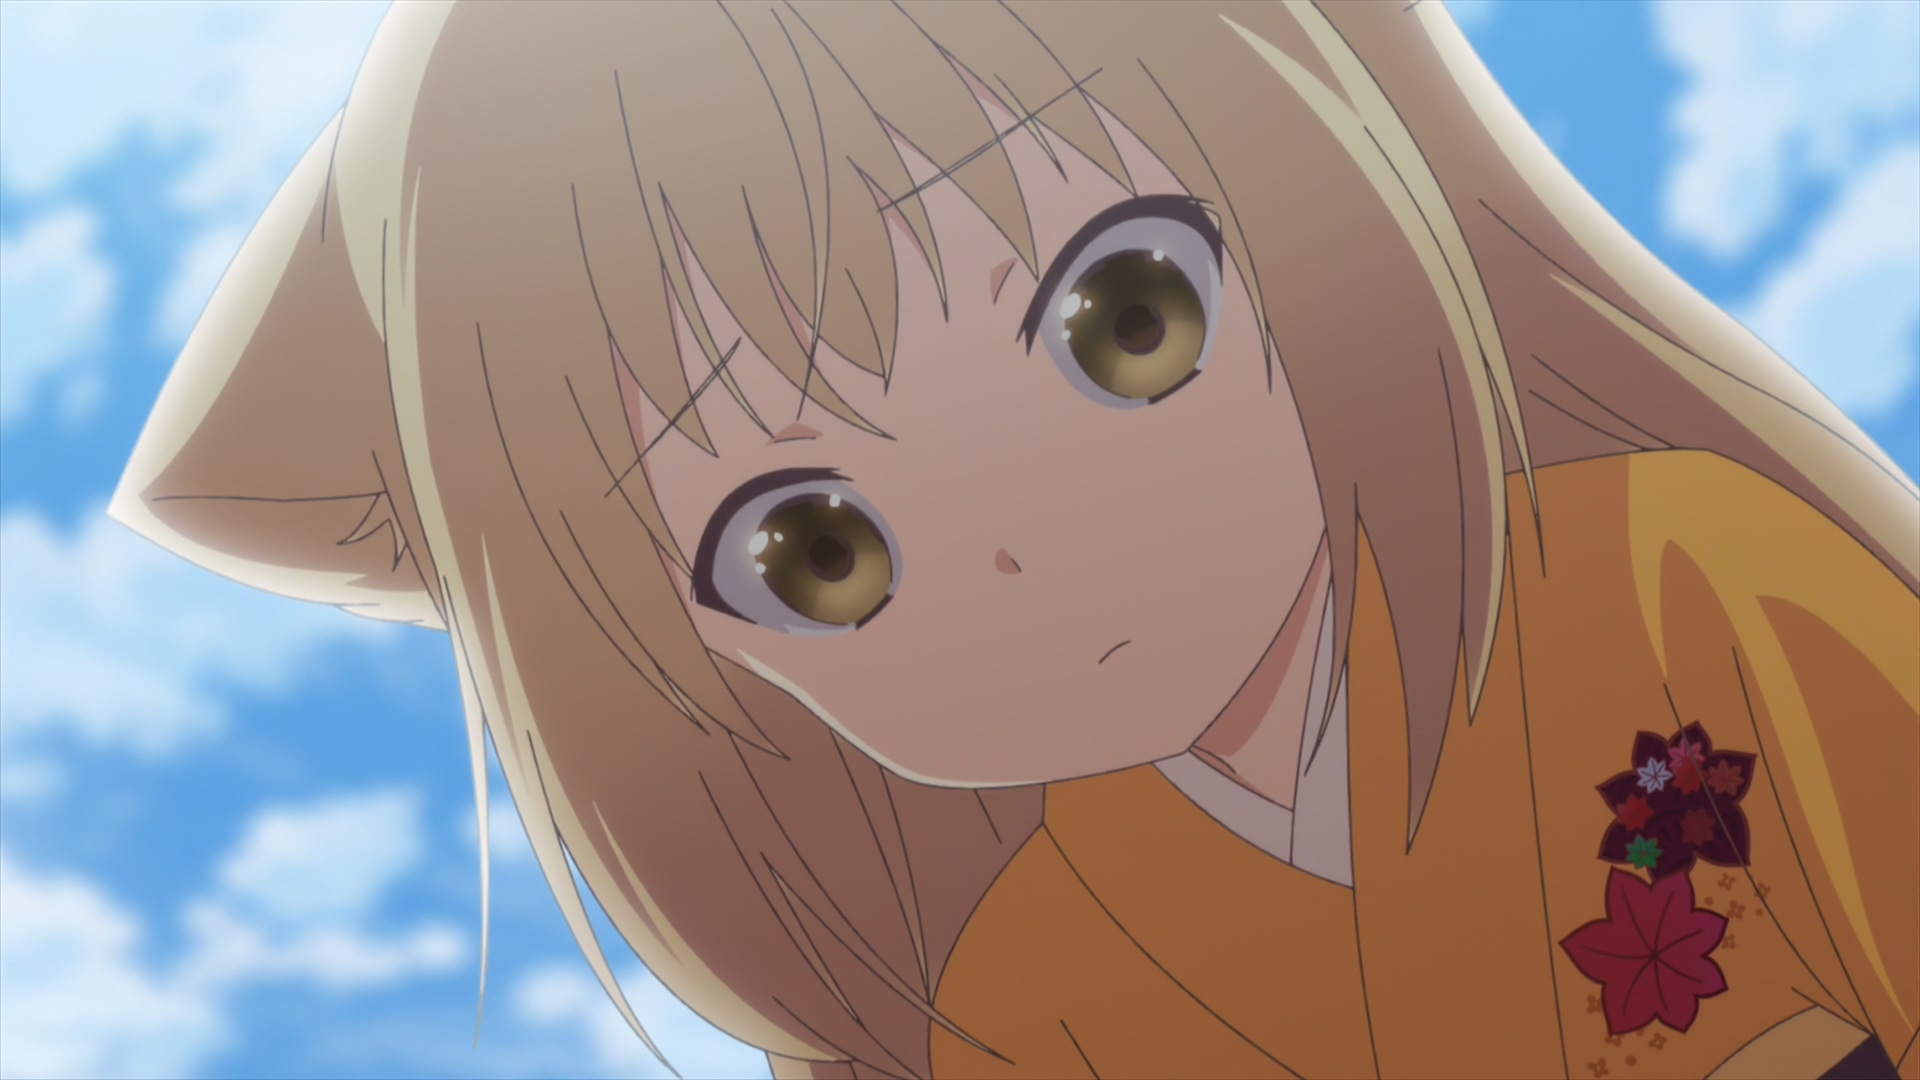柚: (104, 1, 1920, 1080)
